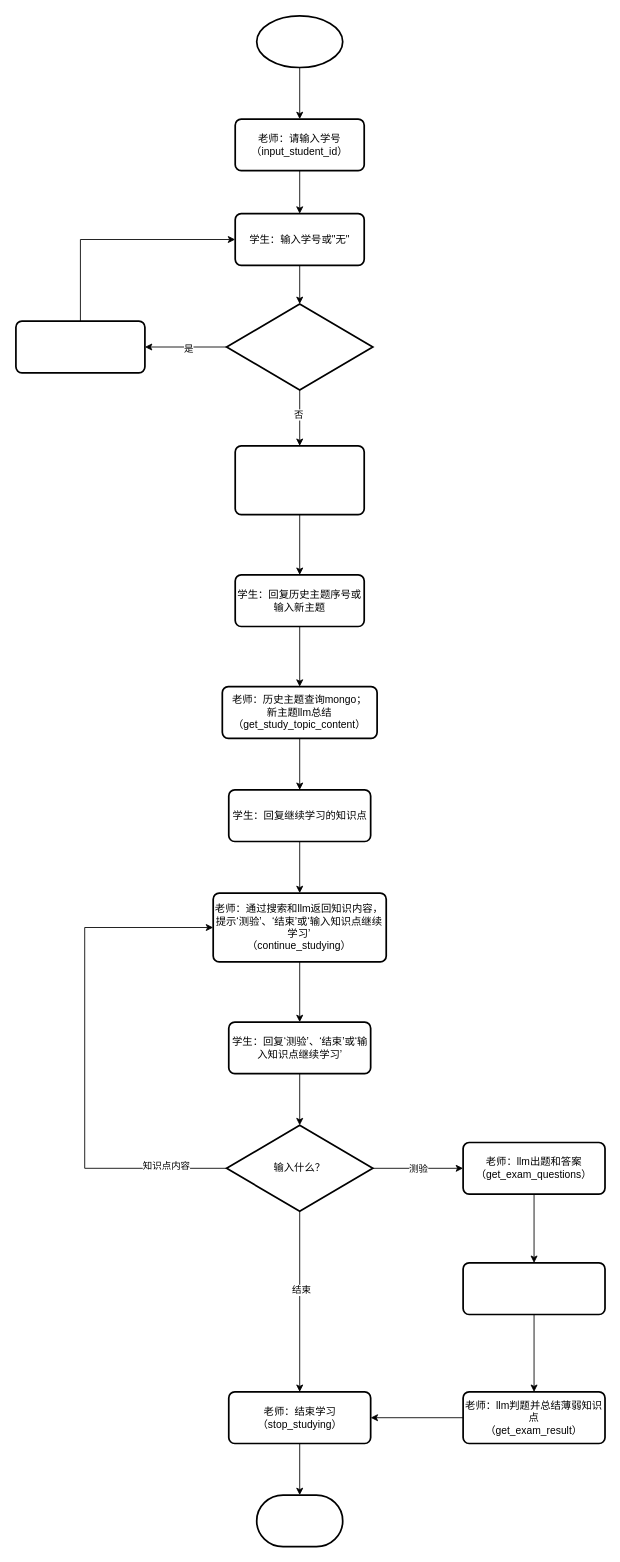
Image size: 620x1562. Some labels were removed from this diagram. The shapes that lost their labels are listed below. From the top down, each one's centre as x and y in pixels, then its label:
the point at 299,41: 学生：输入‘学习’
the point at 80,346: 老师：生成学号 （gen_student_id）
the point at 299,346: 是否输入“无”
the point at 299,480: 老师：选择历史主题或输入新主题 （list_history_study_topics）
the point at 533,1288: 学生：回复全部题目的答案
